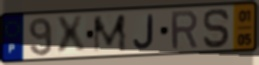9: (27, 16, 54, 58)
J: (132, 13, 155, 51)
M: (92, 12, 129, 55)
R: (169, 9, 200, 52)
S: (202, 7, 232, 50)
X: (54, 14, 88, 57)
